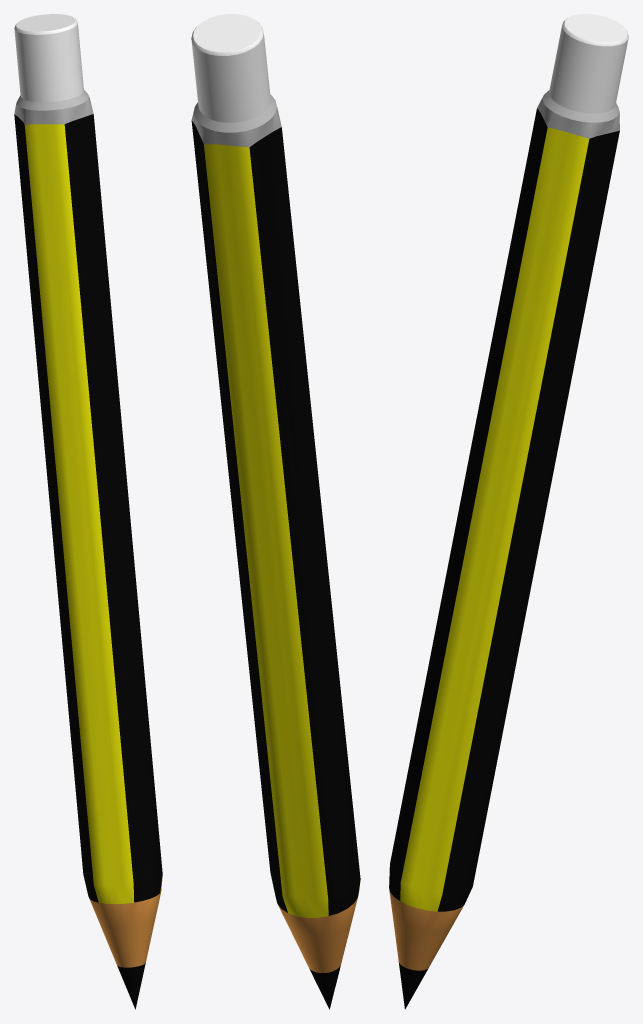
File: pencil.glb
The picture shows the model from 3 angles, left to right: view 1: azimuth 30°, elevation 25°; view 2: azimuth 150°, elevation 25°; view 3: azimuth 270°, elevation 25°; orthographic projection. The views are drawn at different scales.
Parts seen in each view (by area): view 1: Cone001; view 2: Cone001; view 3: Cone001.
Part boxes in pixels (x1,y1,x2,y2): Cone001: (14, 14, 162, 1009); Cone001: (191, 14, 360, 1009); Cone001: (389, 14, 628, 1009).
Size of the model in its own units: 0.099 by 1.27 by 0.2799.
